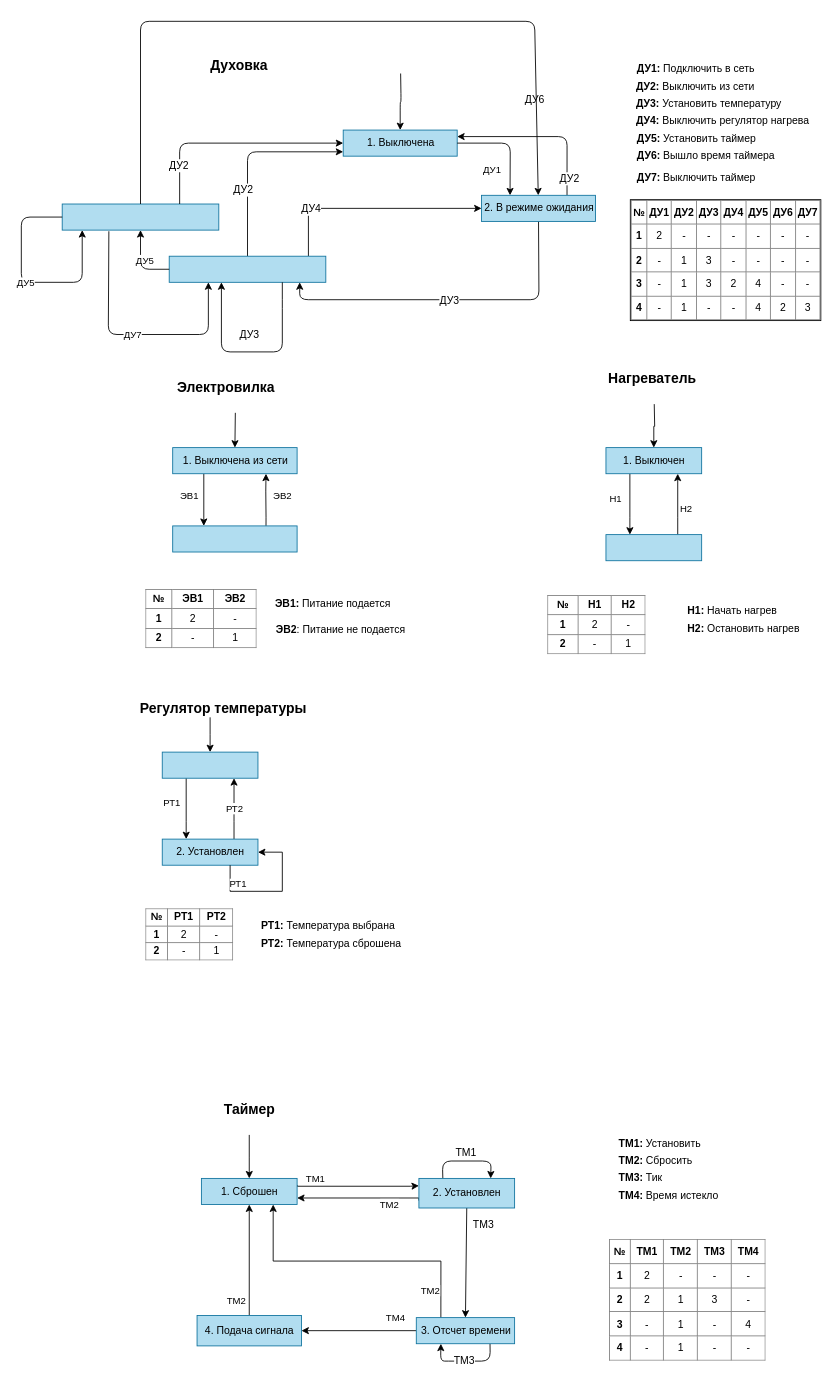
This 837x1383 diagram has some shape labels left out. The box of each missing label's shape, as (x1, y1, x2, y2) in pixels:
1. Не установлен: (161, 751, 258, 778)
2. Включен: (605, 534, 702, 561)
2. Включена в сеть: (172, 525, 297, 552)
3. В процессе приготовления: (168, 255, 326, 282)
4. Таймер установлен: (61, 203, 219, 230)
